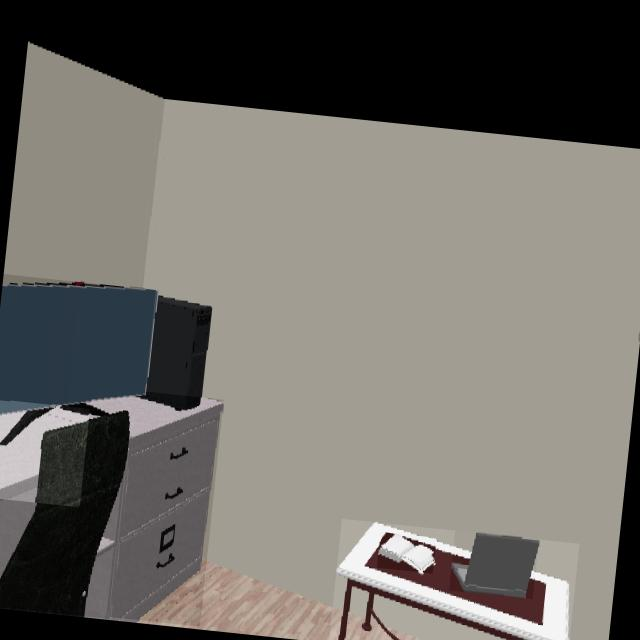book: (380, 534, 434, 571)
cabinet: (109, 404, 223, 619)
chair: (0, 411, 129, 614)
laptop: (452, 533, 538, 597)
monitor: (0, 285, 154, 445)
table: (337, 522, 570, 640), (91, 398, 223, 455), (0, 407, 88, 489)
